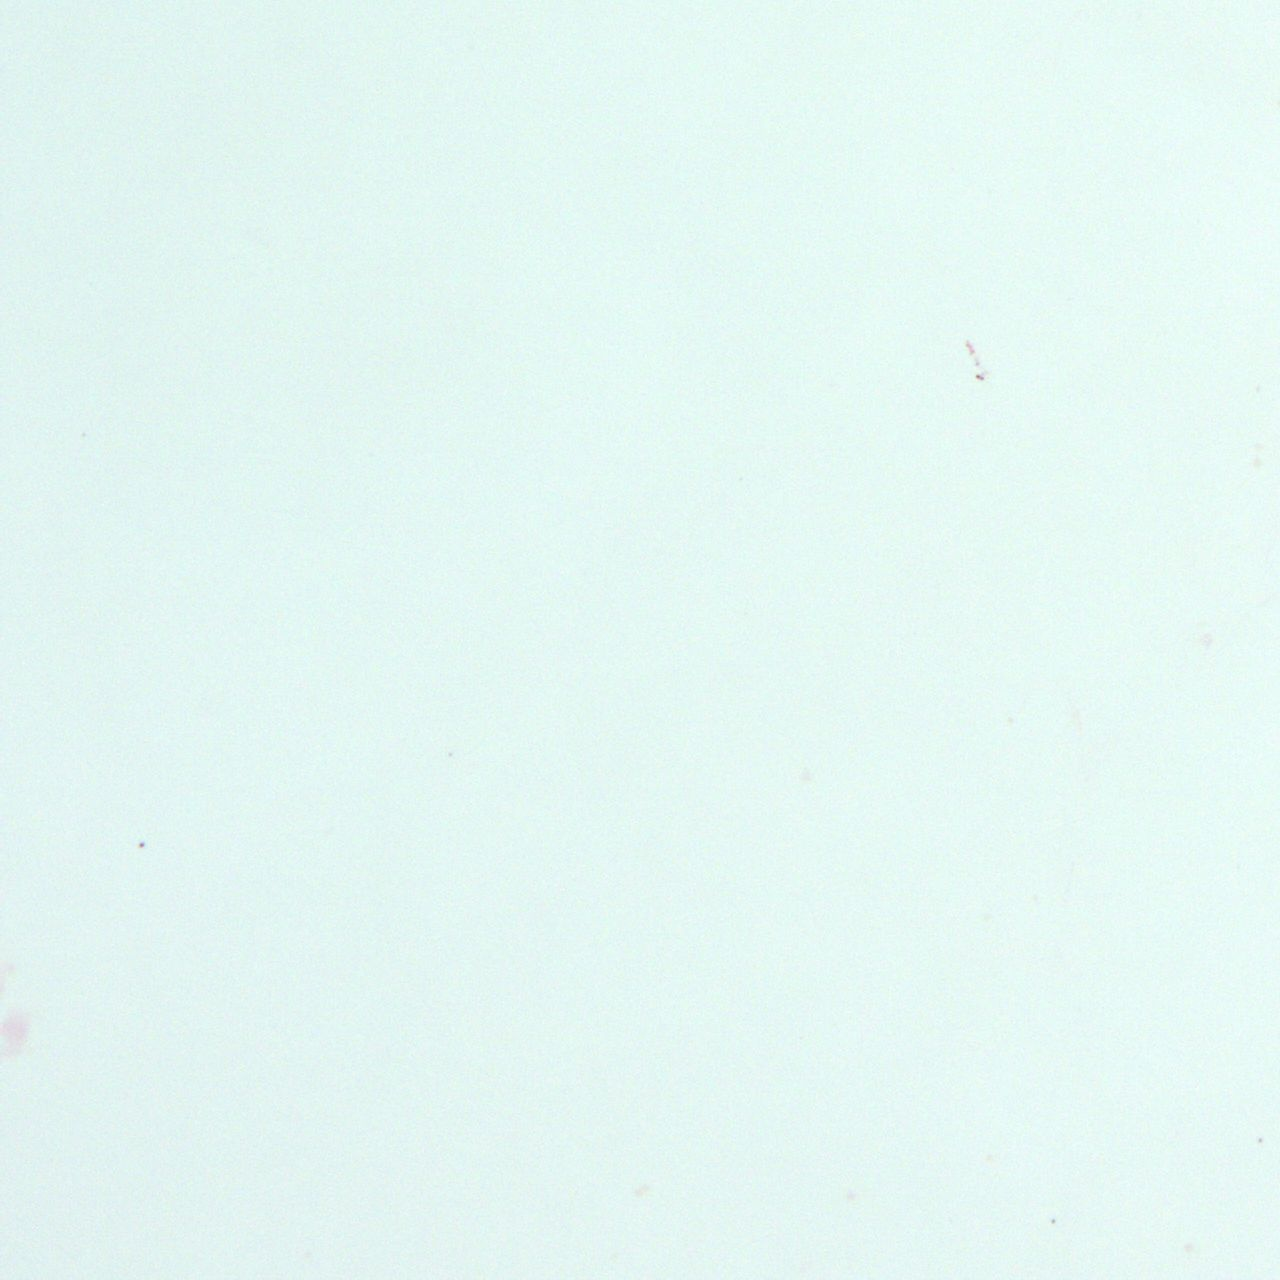dust: (974, 372, 983, 383), (137, 840, 144, 847)
